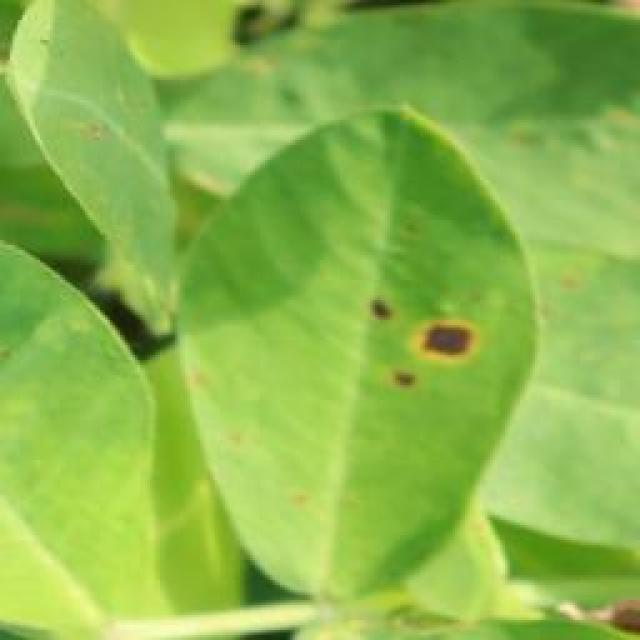Sigatoka: (356, 287, 480, 401), (225, 424, 287, 490), (273, 481, 320, 539), (187, 363, 233, 422), (69, 114, 112, 152)
